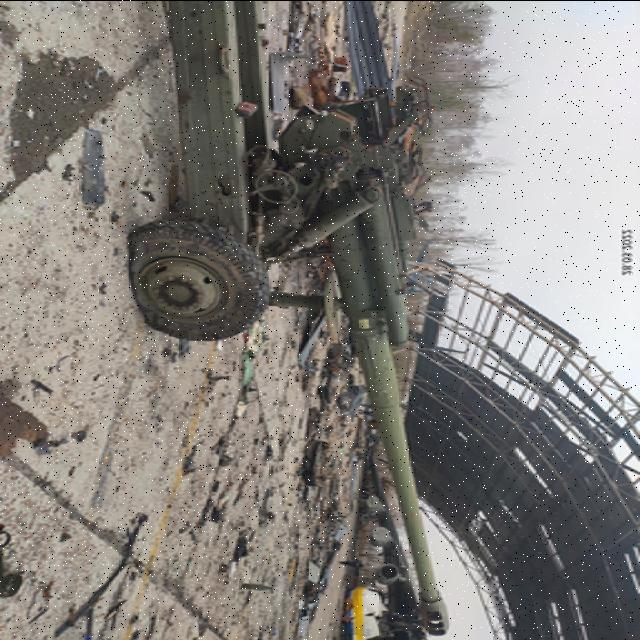ART: (120, 3, 458, 635)
